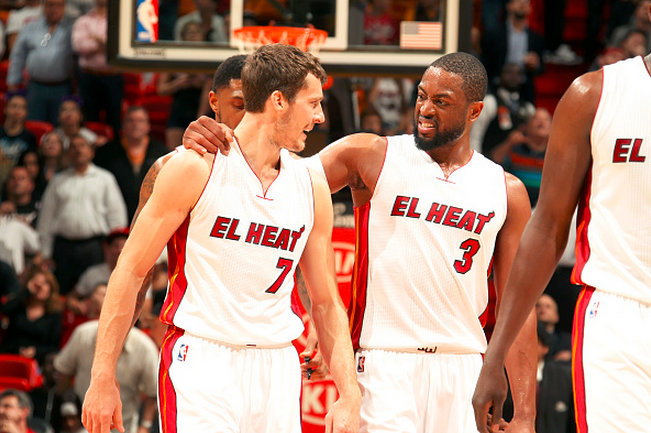basket: (231, 22, 331, 60)
player: (80, 46, 361, 433), (320, 48, 542, 433), (474, 37, 648, 433)
